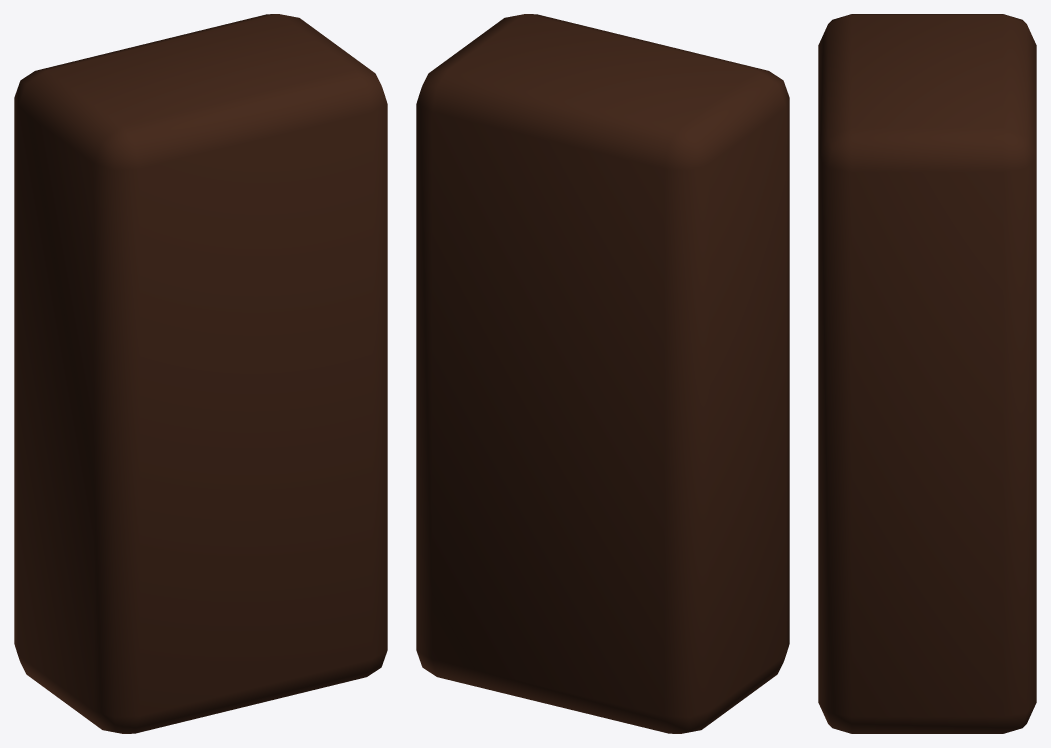
The model's file is topping-bis.glb.
3 renders of one model, left to right at view 1: azimuth 30°, elevation 25°; view 2: azimuth 150°, elevation 25°; view 3: azimuth 270°, elevation 25°, orthographic.
Parts seen in each view (by area): view 1: topping-bis; view 2: topping-bis; view 3: topping-bis.
Part boxes in pixels (x1,y1,x2,y2): topping-bis: (14,14,387,733); topping-bis: (416,14,789,733); topping-bis: (818,14,1036,733).
Size of the model in its own units: 0.013 by 0.026 by 0.0085.
